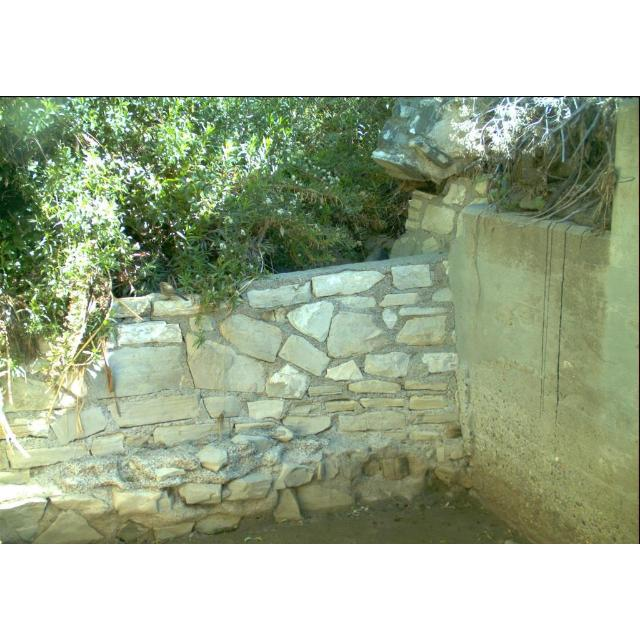animals: (156, 279, 190, 305)
